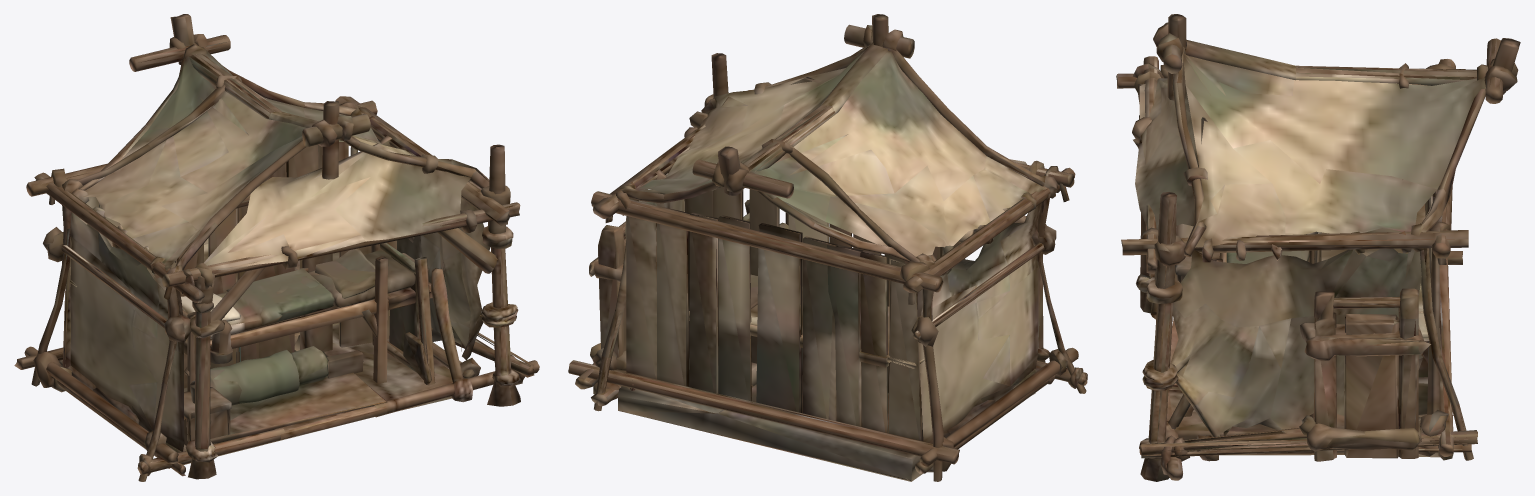
File: shelter_t1_bunk.glb
3 renders of one model, left to right at view 1: azimuth 30°, elevation 25°; view 2: azimuth 150°, elevation 25°; view 3: azimuth 270°, elevation 25°, orthographic. The views are drawn at different scales.
Bounding box in the file's own units: 0.3232 × 0.2554 × 0.2539.
Materials: 1 (1 with a texture image).
